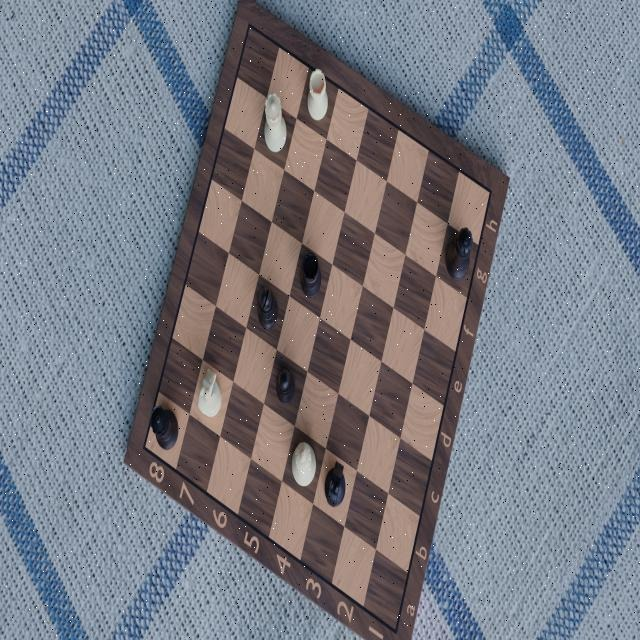black-bishop: (256, 284, 280, 332)
black-king: (443, 225, 472, 282)
black-knight: (321, 460, 346, 512)
black-pawn: (275, 365, 297, 406)
black-queen: (149, 404, 181, 454)
black-rook: (298, 250, 322, 299)
white-king: (290, 440, 318, 488)
white-knight: (198, 366, 224, 422)
white-queen: (262, 91, 289, 156)
white-rook: (305, 66, 330, 124)
